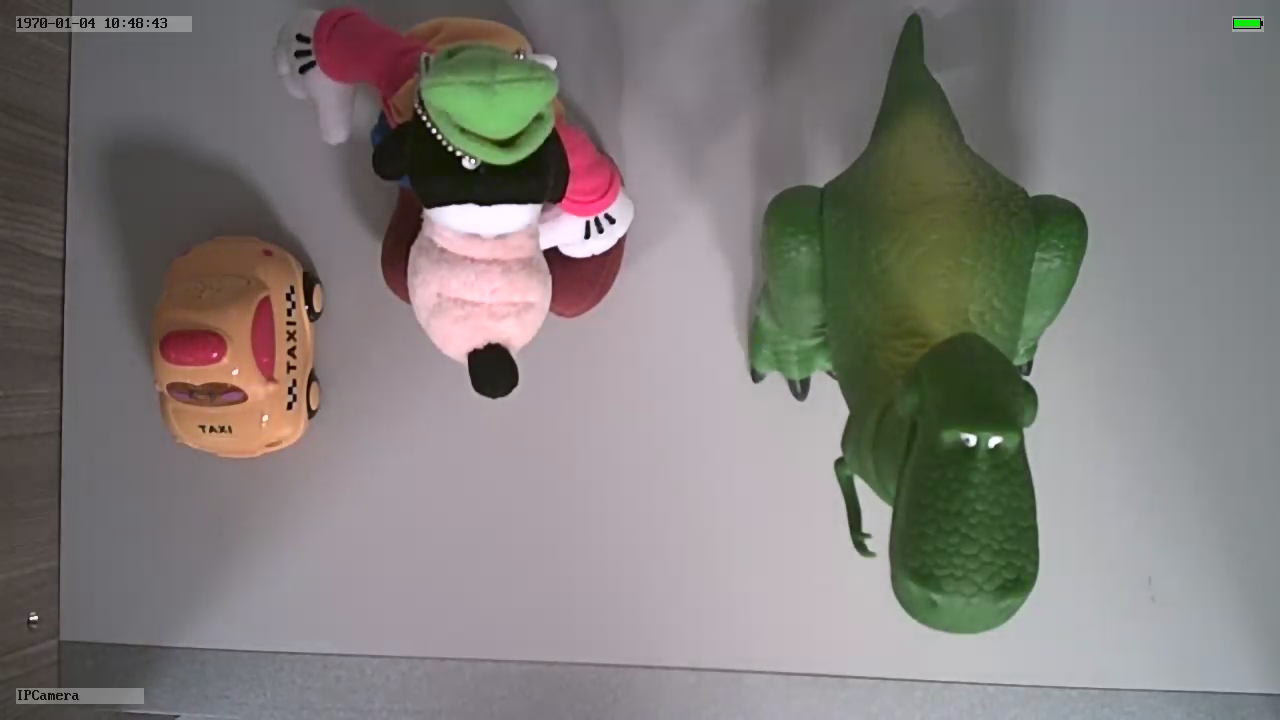goofy: (276, 11, 645, 394)
